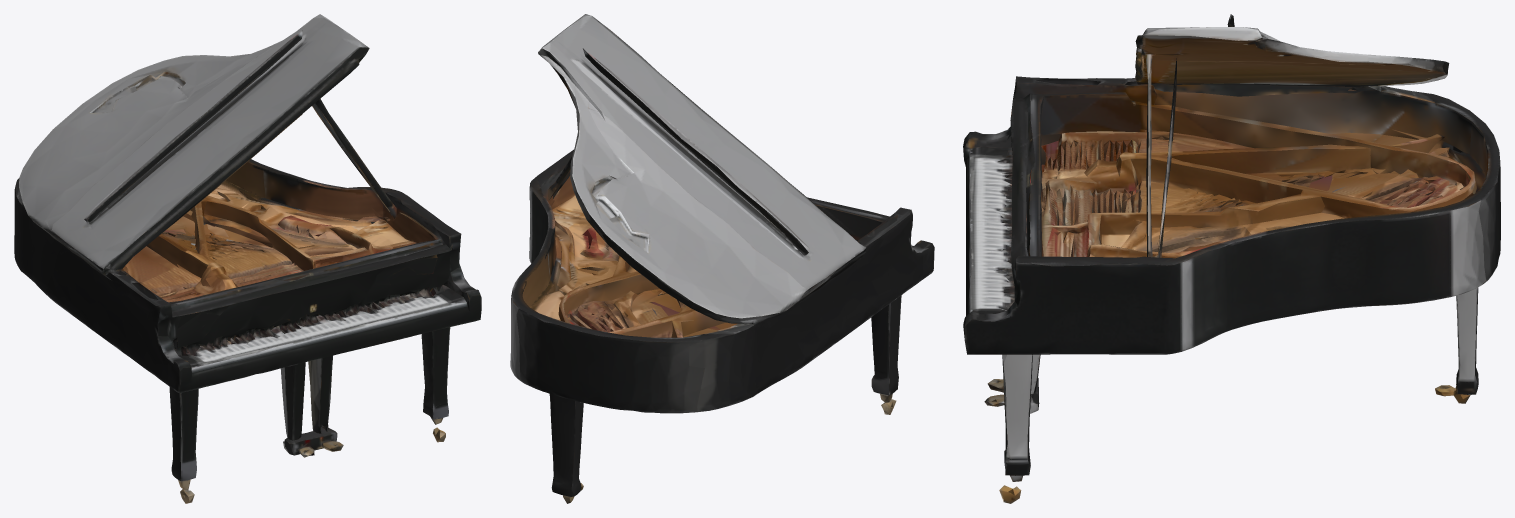
Rendered from piano.glb.
3 renders of one model, left to right at view 1: azimuth 30°, elevation 25°; view 2: azimuth 150°, elevation 25°; view 3: azimuth 270°, elevation 25°, orthographic. The views are drawn at different scales.
Parts seen in each view (by area): view 1: geometry_0; view 2: geometry_0; view 3: geometry_0.
Boxes of the visible parts, x1,y1,x2,y2 form: geometry_0: (14,14,481,503); geometry_0: (510,14,934,503); geometry_0: (963,14,1500,503).
Size of the model in its own units: 1.8 by 2.02 by 2.13.
1 material, 1 textured.
